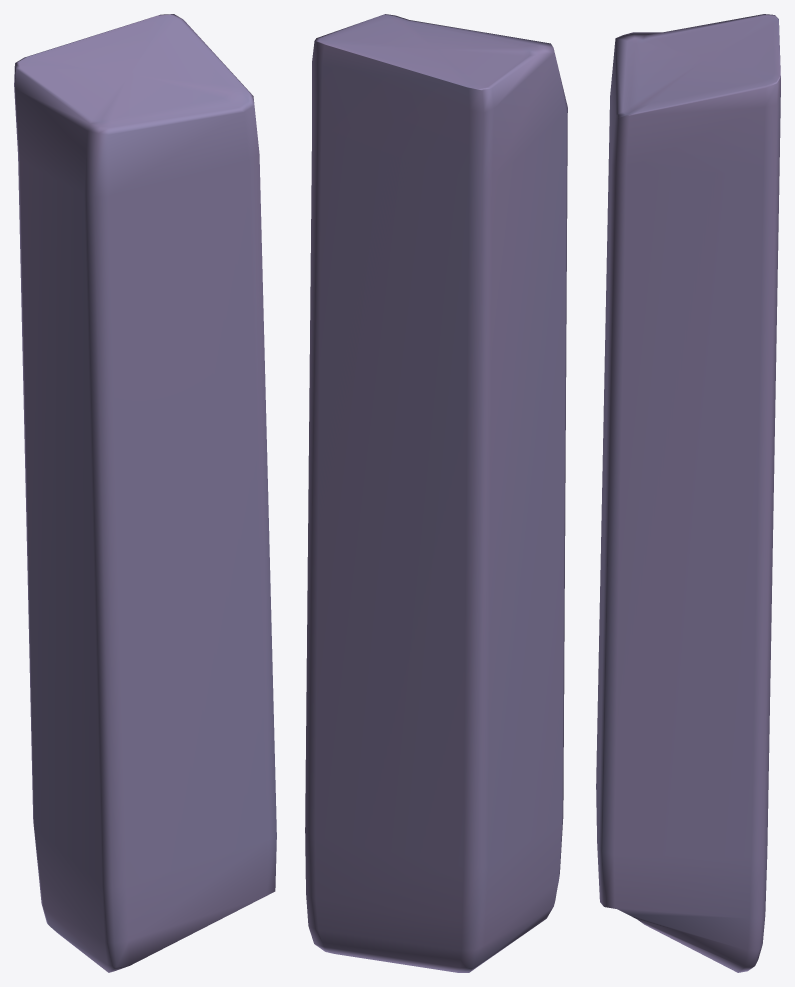
File: SM_GateStoop_B.glb
3 views of the same model, side by side, from view 1: azimuth 30°, elevation 25°; view 2: azimuth 150°, elevation 25°; view 3: azimuth 270°, elevation 25° (orthographic). The views are drawn at different scales.
Parts seen in each view (by area): view 1: SM_GateStoop_B; view 2: SM_GateStoop_B; view 3: SM_GateStoop_B.
Part boxes in pixels (x1,y1,x2,y2): SM_GateStoop_B: (14, 14, 276, 972); SM_GateStoop_B: (305, 14, 567, 972); SM_GateStoop_B: (596, 14, 780, 972).
Size of the model in its own units: 0.4052 by 1.85 by 0.3497.
